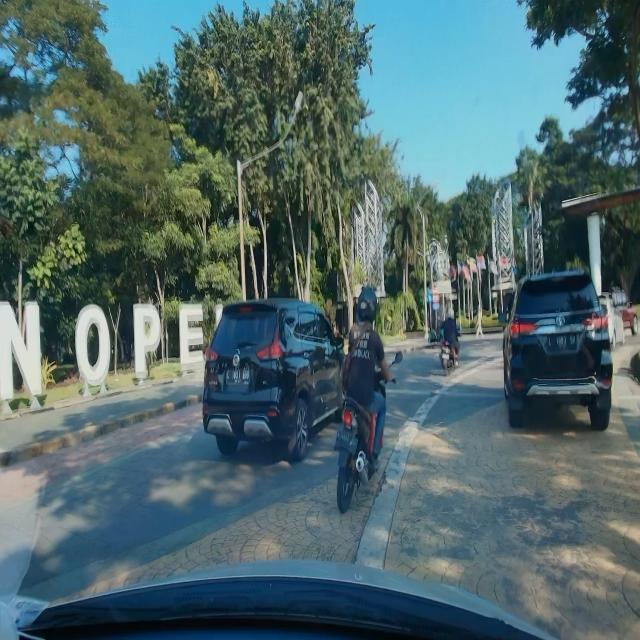car: (202, 294, 346, 464), (500, 268, 614, 432)
